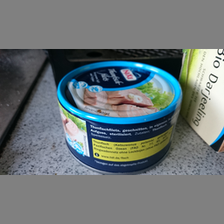fish: (56, 61, 184, 175)
